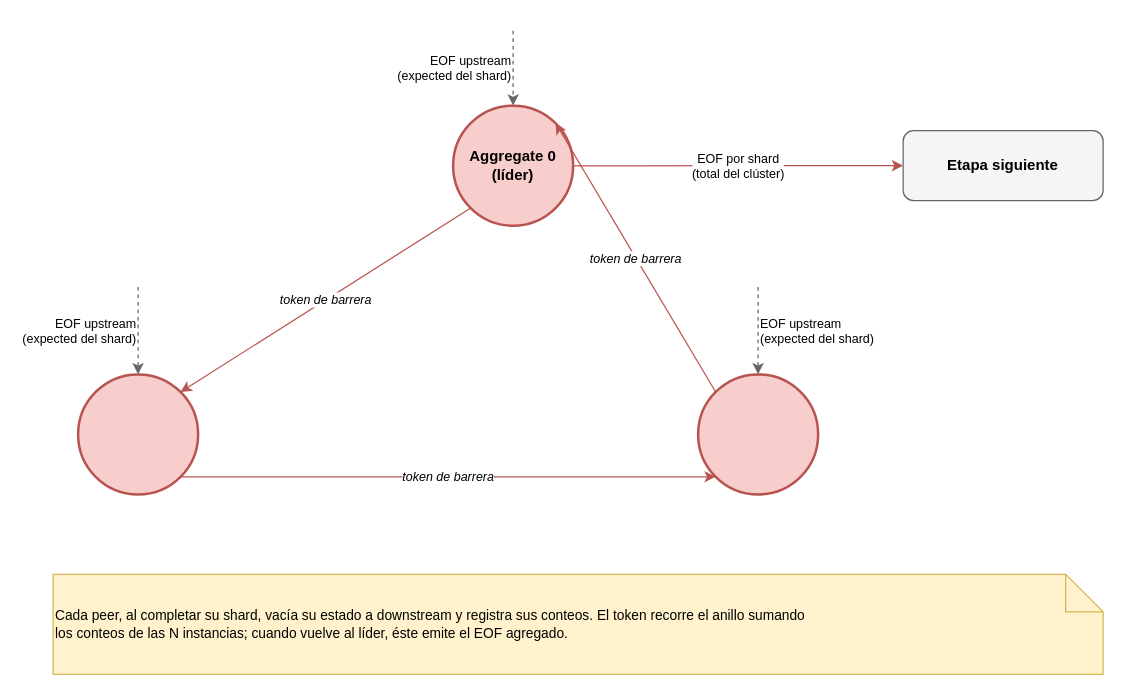
This 1125x696 diagram has some shape labels left out. The shapes that lost their labels are listed below. From the top down, each one's box as (x1, y1, x2, y2) in pixels, then its label:
(76, 372, 199, 495): Aggregate 1
(696, 372, 819, 495): Aggregate 2
